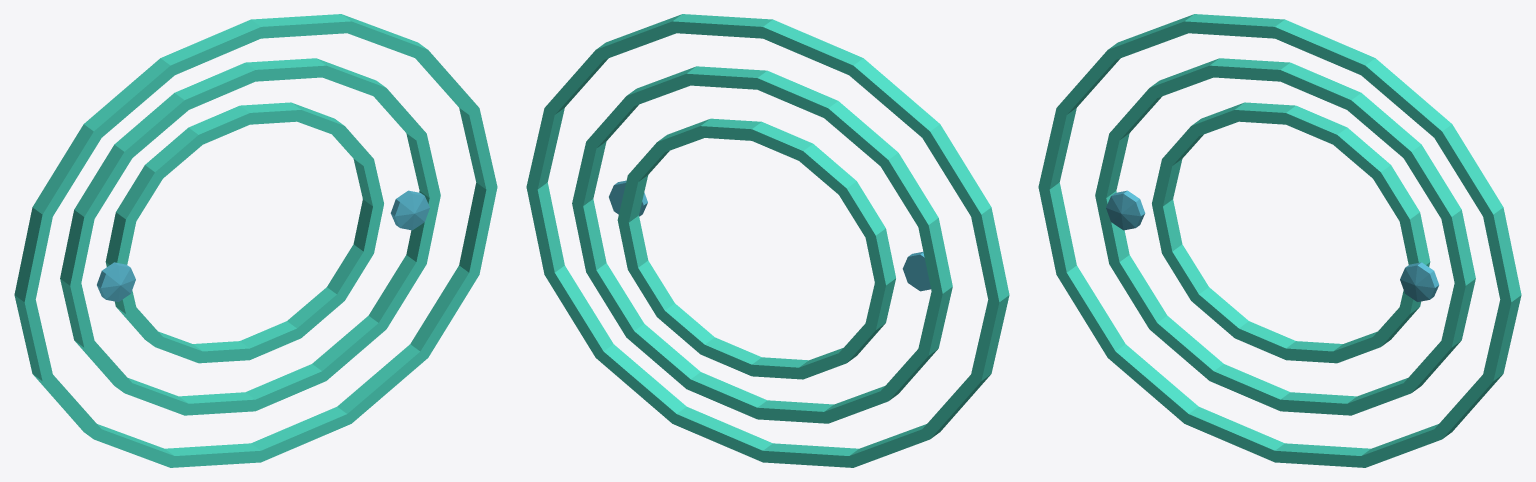
File: water_ripple_halo.obj
3 renders of one model, left to right at view 1: azimuth 30°, elevation 25°; view 2: azimuth 150°, elevation 25°; view 3: azimuth 330°, elevation 25°, orthographic.
Parts seen in each view (by area): view 1: water_ripple_2, water_ripple_1, water_ripple_0, ripple_node_0.46, ripple_node_-0.46; view 2: water_ripple_2, water_ripple_1, water_ripple_0, ripple_node_-0.46; view 3: water_ripple_2, water_ripple_1, water_ripple_0, ripple_node_-0.46, ripple_node_0.46.
Part boxes in pixels (x1,y1,x2,y2): water_ripple_2: (14, 14, 497, 467); water_ripple_1: (60, 58, 440, 415); water_ripple_0: (105, 102, 383, 363); ripple_node_0.46: (390, 190, 429, 230); ripple_node_-0.46: (97, 262, 135, 301); water_ripple_2: (526, 14, 1009, 467); water_ripple_1: (572, 66, 952, 423); water_ripple_0: (617, 118, 895, 379); ripple_node_-0.46: (902, 252, 930, 291); water_ripple_2: (1038, 14, 1521, 467); water_ripple_1: (1095, 58, 1475, 415); water_ripple_0: (1152, 102, 1430, 363); ripple_node_-0.46: (1106, 190, 1145, 230); ripple_node_0.46: (1400, 262, 1438, 301).
Bounding box in the file's own units: 1.48 × 1.3 × 0.1511.
